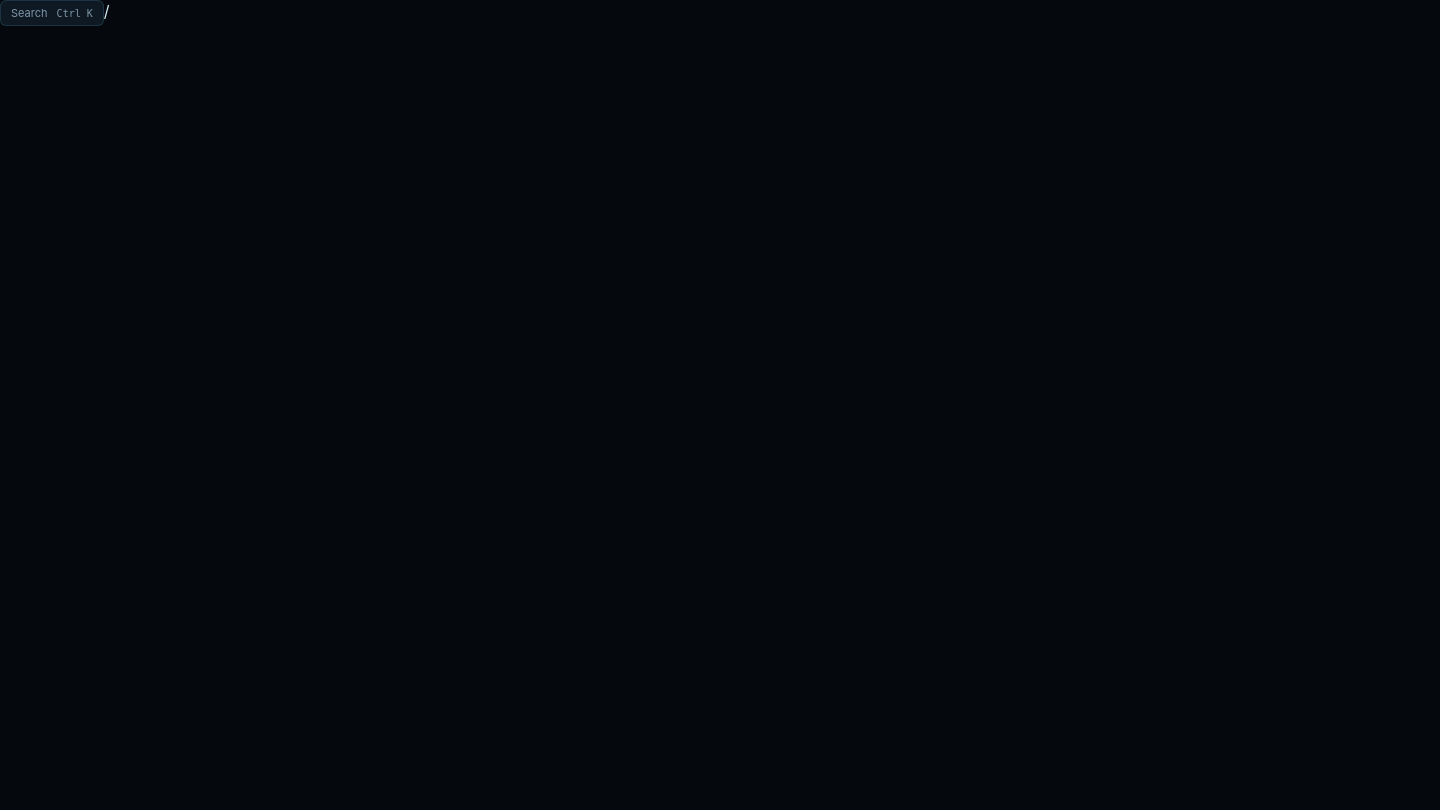
Test: quick navigation › opens with Ctrl+K, focuses search and navigates to a matching node with Enter
Press k
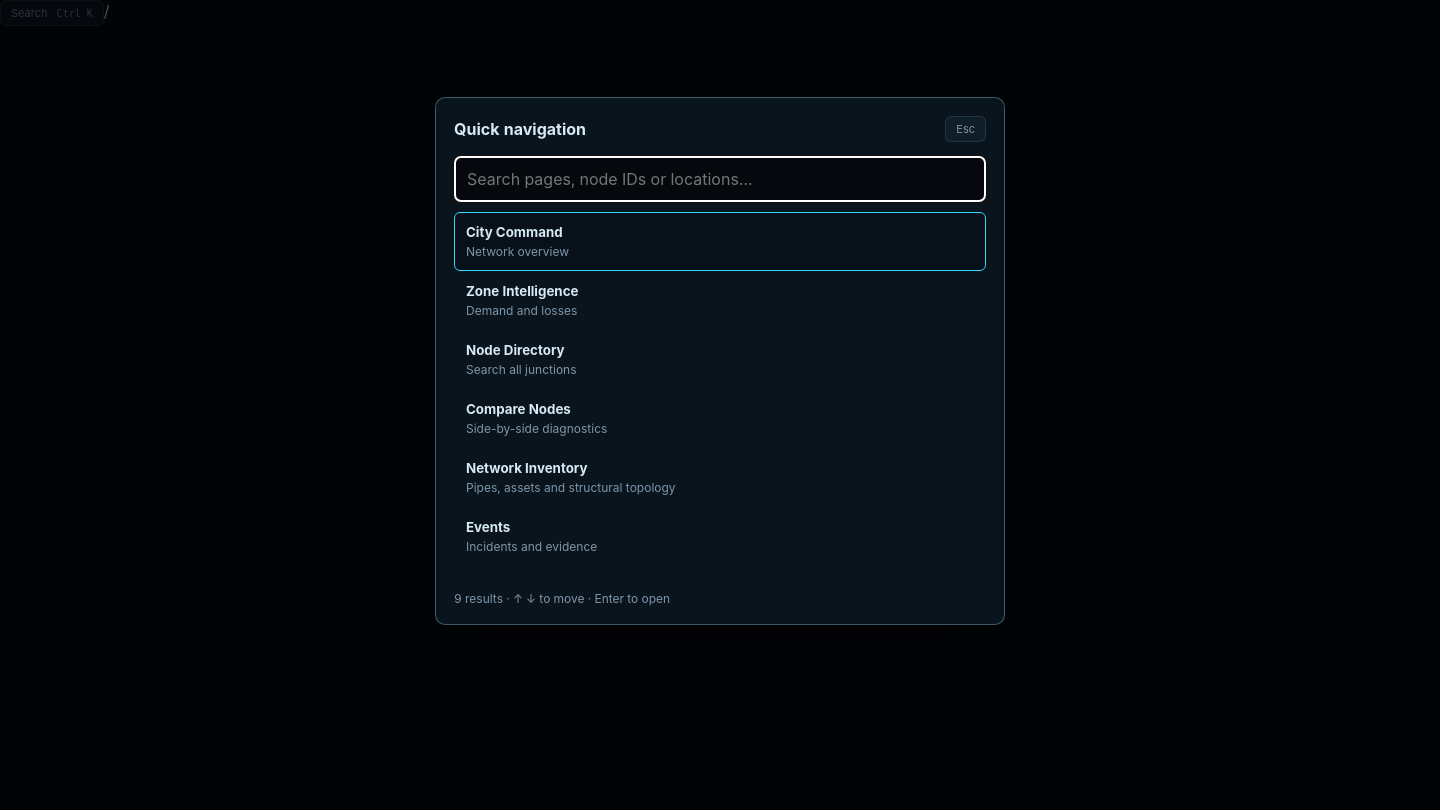
Type "exchange" into the dropdown at point(720, 179), box [454,156,986,202]
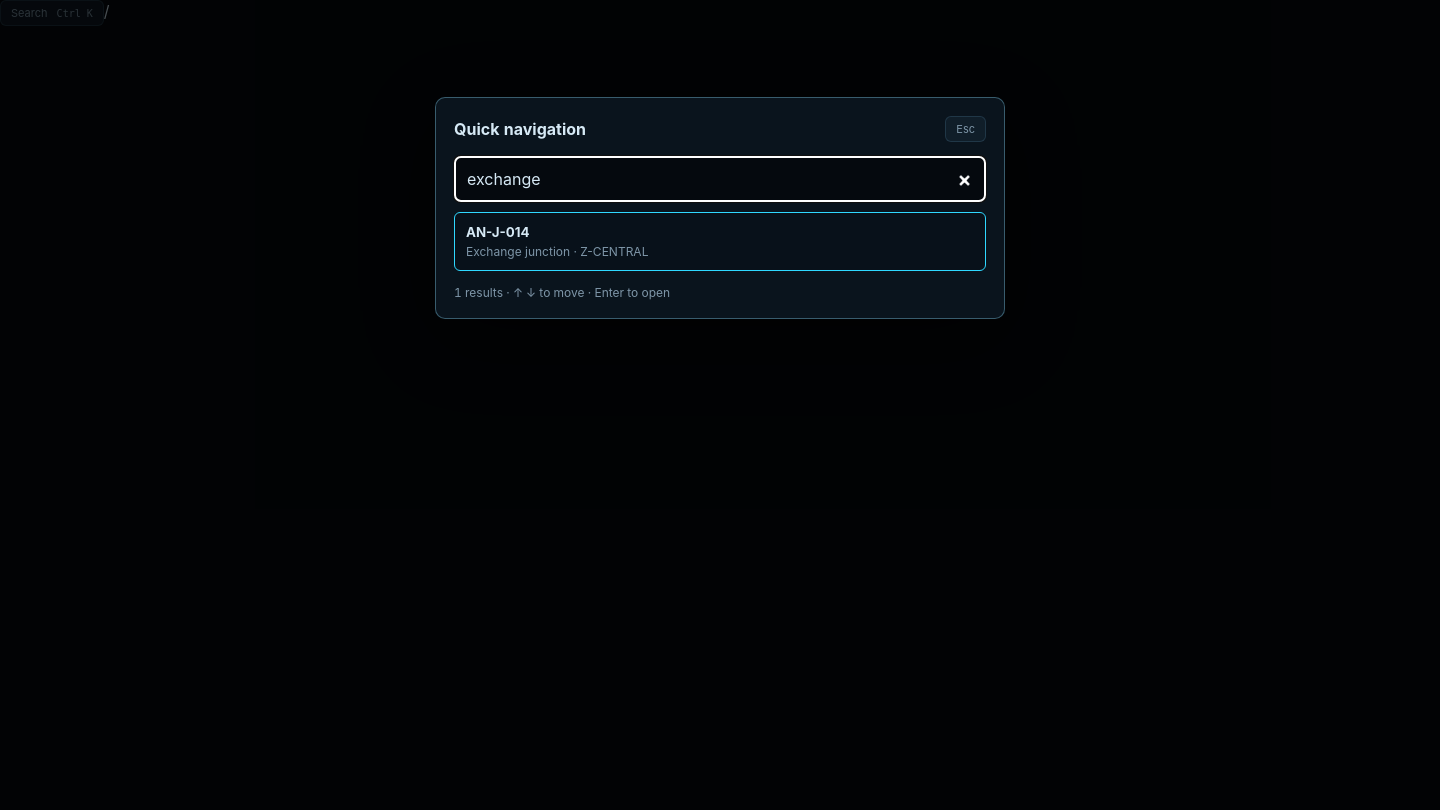
Press Enter in the dropdown, box [454,156,986,202]
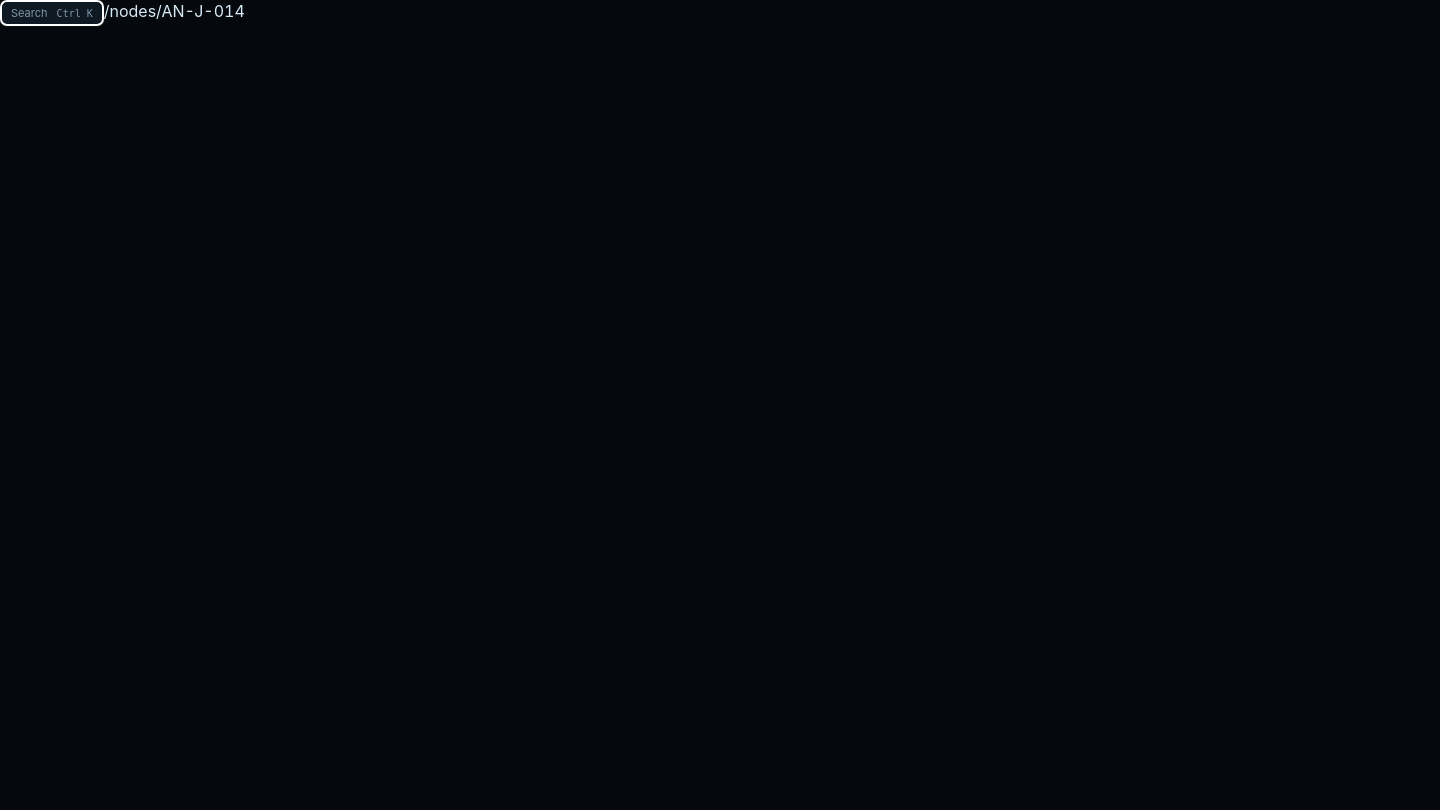
Expected: the text with test id "location" reads "/nodes/AN-J-014", [104,1,245,21]
